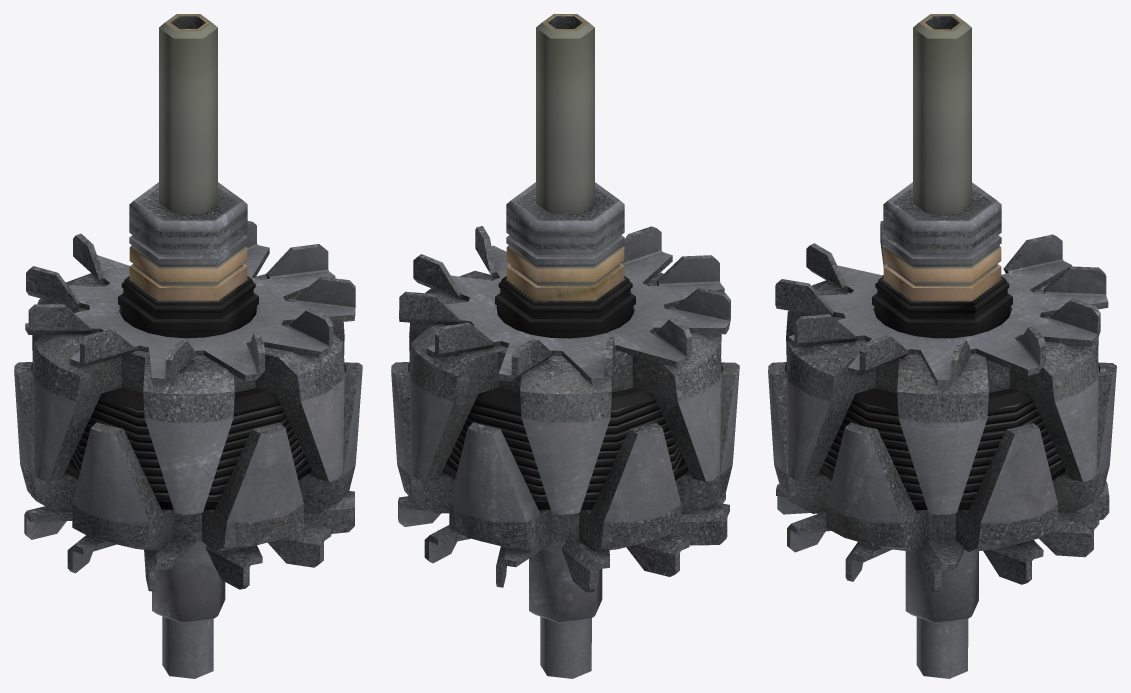
The model's file is Rotor_Low_Poly.DAE.
The picture shows the model from 3 angles, left to right: view 1: azimuth 30°, elevation 25°; view 2: azimuth 150°, elevation 25°; view 3: azimuth 270°, elevation 25°; orthographic projection.
Parts seen in each view (by area): view 1: Rotor_Low_Poly; view 2: Rotor_Low_Poly; view 3: Rotor_Low_Poly.
Boxes of the visible parts, x1=… form: Rotor_Low_Poly: x1=14, y1=14, x2=362, y2=678; Rotor_Low_Poly: x1=391, y1=14, x2=739, y2=678; Rotor_Low_Poly: x1=768, y1=14, x2=1116, y2=678.
Bounding box in the file's own units: 119 × 119 × 243.
Materials: 1 (1 with a texture image).
